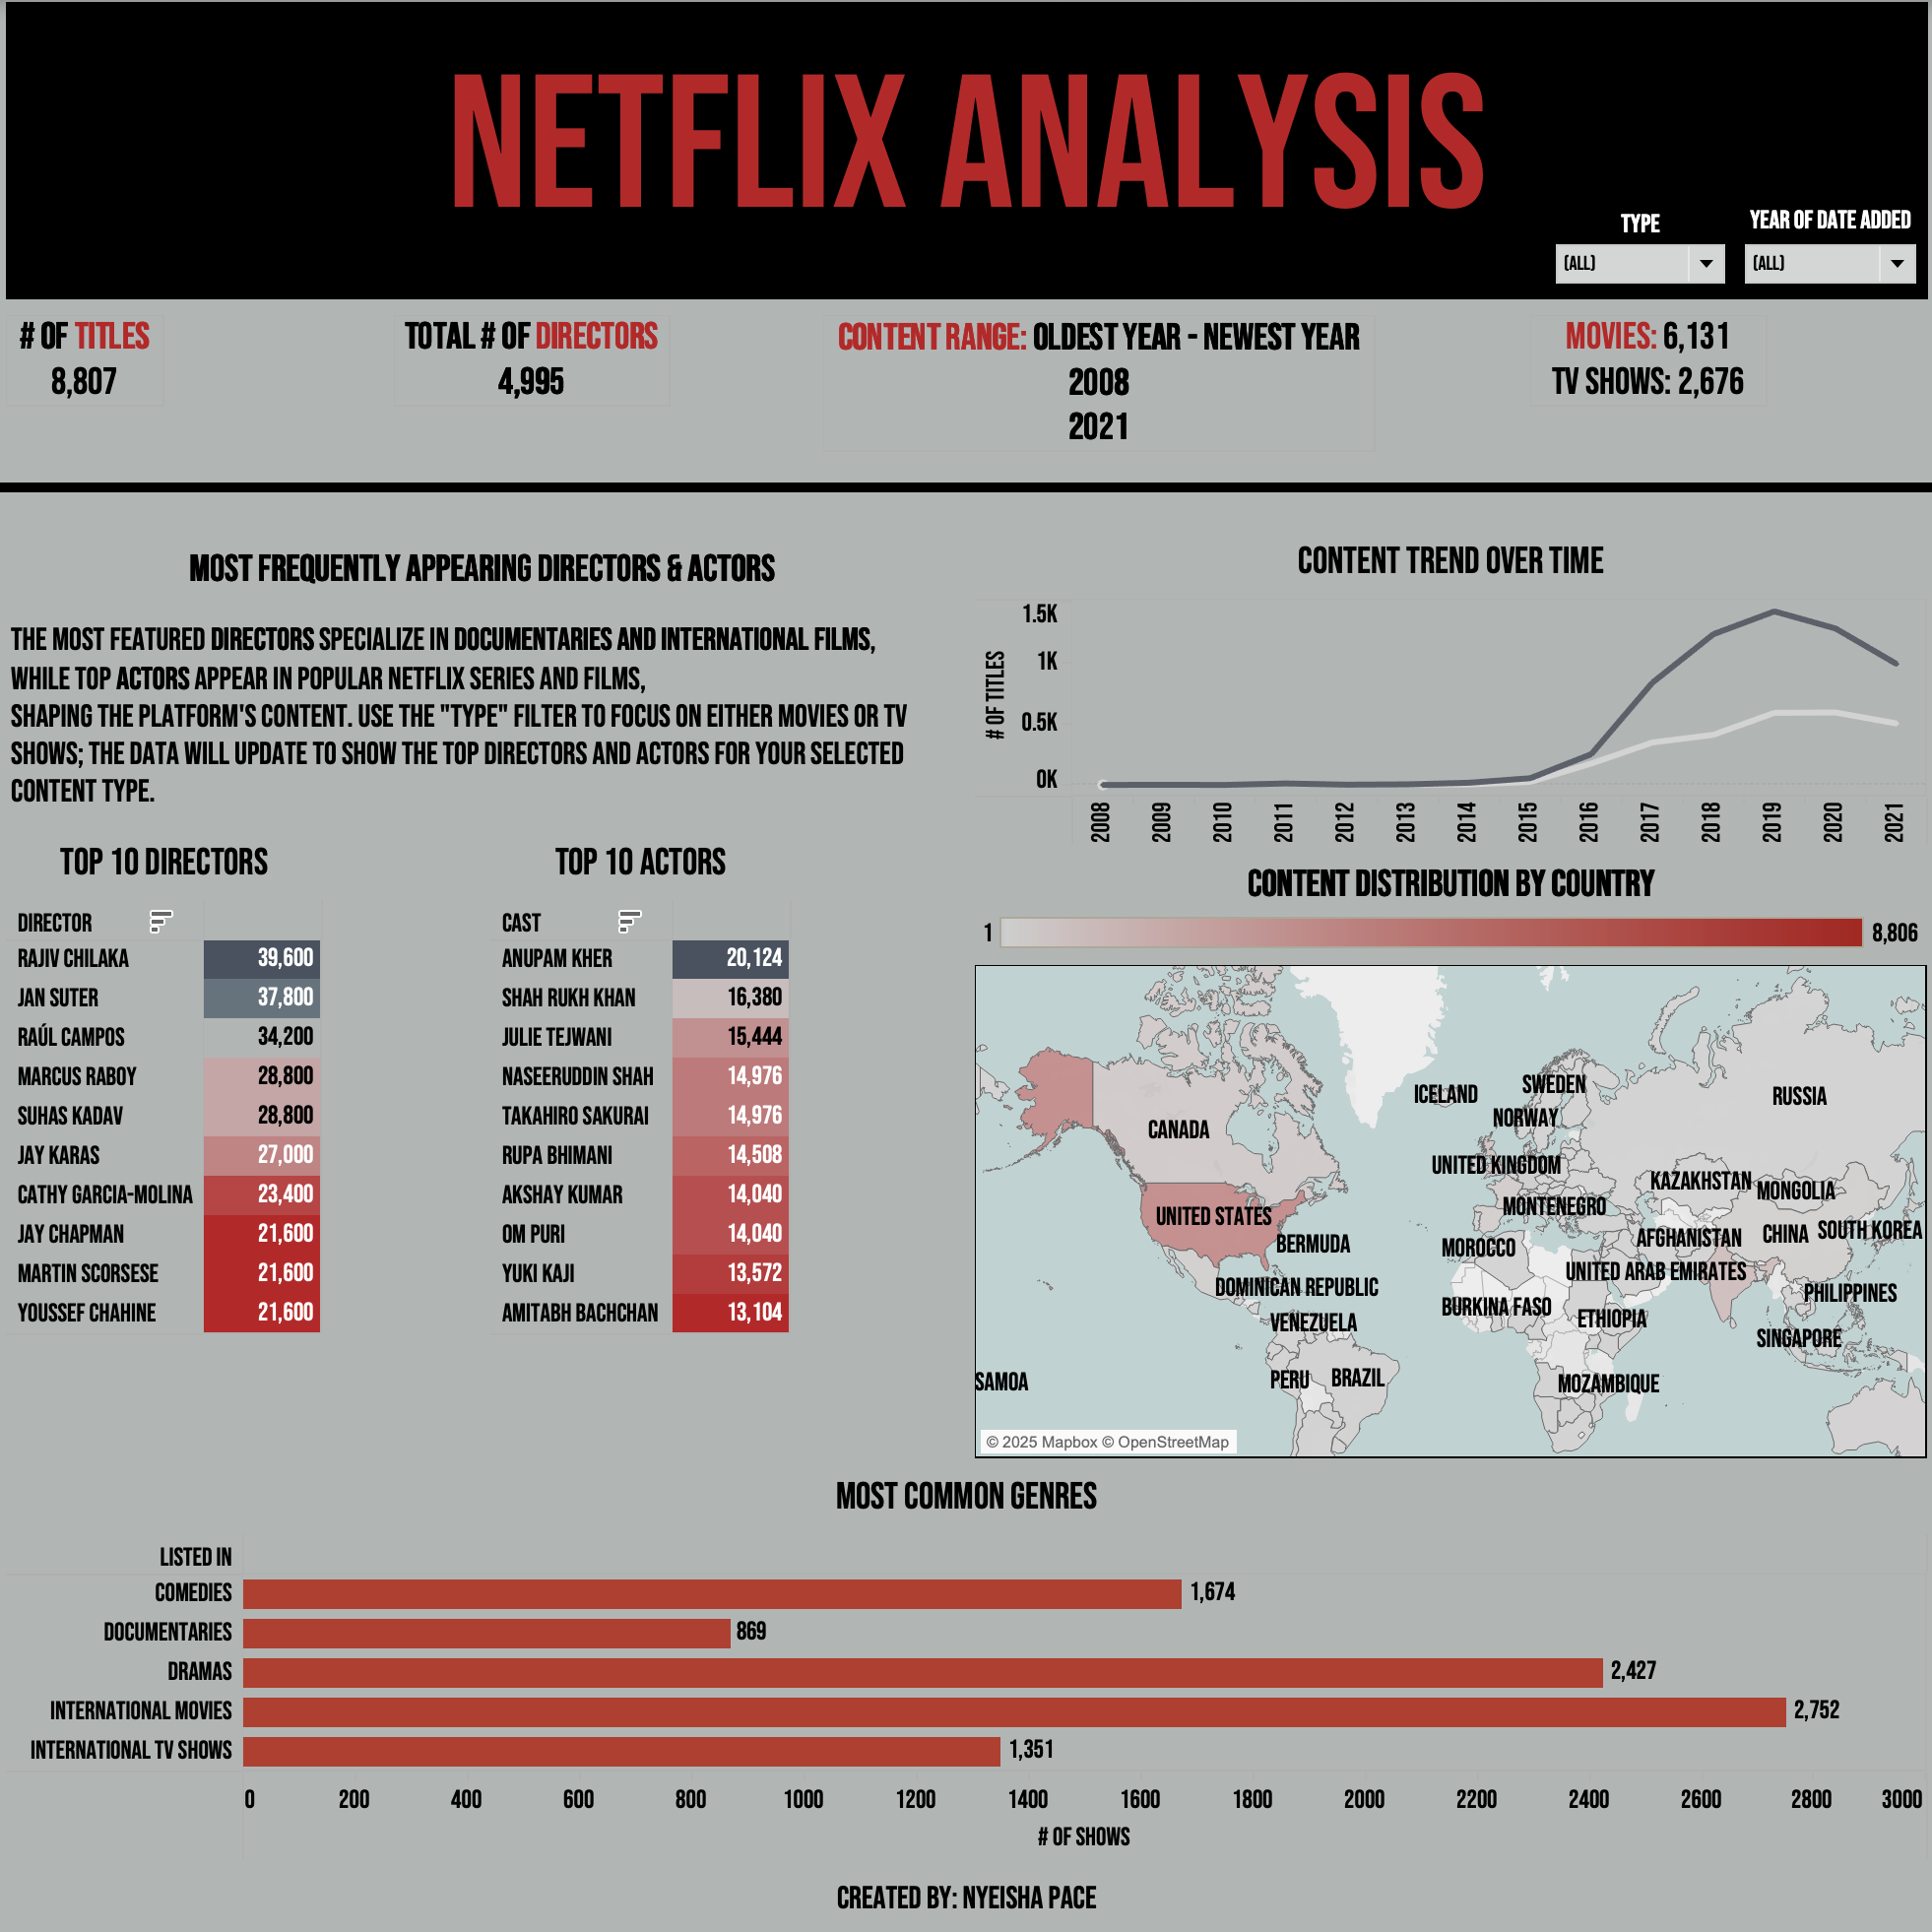

Layout of this report page (visuals, bound fields, positions):
{"tool":"tableau","page":{"name":"Netflix Dashboard","canvas":[1000,1000],"ordinal":0},"visuals":[{"type":"text","box":[8,8,984,158.7]},{"type":"filter","title":"Content Trend Over Time","param":"[federated.1ahq4zx0462q9z15cslsa18gwlyi].[yr:date_added:ok]","box":[892,115,93,51]},{"type":"filter","title":"Content Trend Over Time","param":"[federated.1ahq4zx0462q9z15cslsa18gwlyi].[none:type:nk]","box":[796,117,92,40]},{"type":"worksheet","title":"# of Titles KPI","mark":"Automatic","box":[8,166.7,196.9,114.2]},{"type":"worksheet","title":"Total # of Directors","mark":"Automatic","box":[204.9,166.7,218.1,114.2]},{"type":"worksheet","title":"Releases Each Year ","mark":"Automatic","box":[422.9,166.7,358.9,114.2]},{"type":"worksheet","title":"Total # of MV/TV KPI","mark":"Automatic","box":[781.9,166.7,210.1,55]},{"type":"text","box":[8,280.8,492,39.2]},{"type":"worksheet","title":"Content Trend Over Time","mark":"Automatic","rows":["title"],"cols":["date_added"],"box":[500,280.8,492,164.2]},{"type":"text","box":[8,320,492,114.1]},{"type":"worksheet","title":"Top 10 Directors","mark":"Square","rows":["director"],"box":[8,434.1,246,321.9]},{"type":"worksheet","title":"Top 10 Actors","mark":"Square","rows":["cast"],"box":[254,434.1,246,259]},{"type":"legend","title":"Countries Map","param":"[federated.1ahq4zx0462q9z15cslsa18gwlyi].[ctd:show_id:qk]","box":[500,445,492,52]},{"type":"worksheet","title":"Countries Map","mark":"Automatic","box":[500,497,492,259]},{"type":"worksheet","title":"Most Common Genres","mark":"Automatic","rows":["listed_in"],"cols":["show_id"],"box":[8,756,984,204]},{"type":"text","box":[8,960,984,32]}]}

Visuals, with their boxes in screenshot pixels (x1, y1, x2, y2), scaled from the page's 1000x1000 canvas onto the 1932x1932 screenshot:
text: bbox=(16, 16, 1916, 322)
"Content Trend Over Time" filter: bbox=(1723, 223, 1903, 321)
"Content Trend Over Time" filter: bbox=(1538, 226, 1715, 303)
"# of Titles KPI" worksheet: bbox=(16, 322, 396, 543)
"Total # of Directors" worksheet: bbox=(396, 322, 817, 543)
"Releases Each Year " worksheet: bbox=(817, 322, 1511, 543)
"Total # of MV/TV KPI" worksheet: bbox=(1511, 322, 1916, 428)
text: bbox=(16, 543, 966, 618)
"Content Trend Over Time" worksheet: bbox=(966, 543, 1916, 860)
text: bbox=(16, 618, 966, 839)
"Top 10 Directors" worksheet (Square marks): bbox=(16, 839, 490, 1460)
"Top 10 Actors" worksheet (Square marks): bbox=(490, 839, 966, 1339)
"Countries Map" legend: bbox=(966, 860, 1916, 960)
"Countries Map" worksheet: bbox=(966, 960, 1916, 1460)
"Most Common Genres" worksheet: bbox=(16, 1460, 1916, 1855)
text: bbox=(16, 1855, 1916, 1916)
